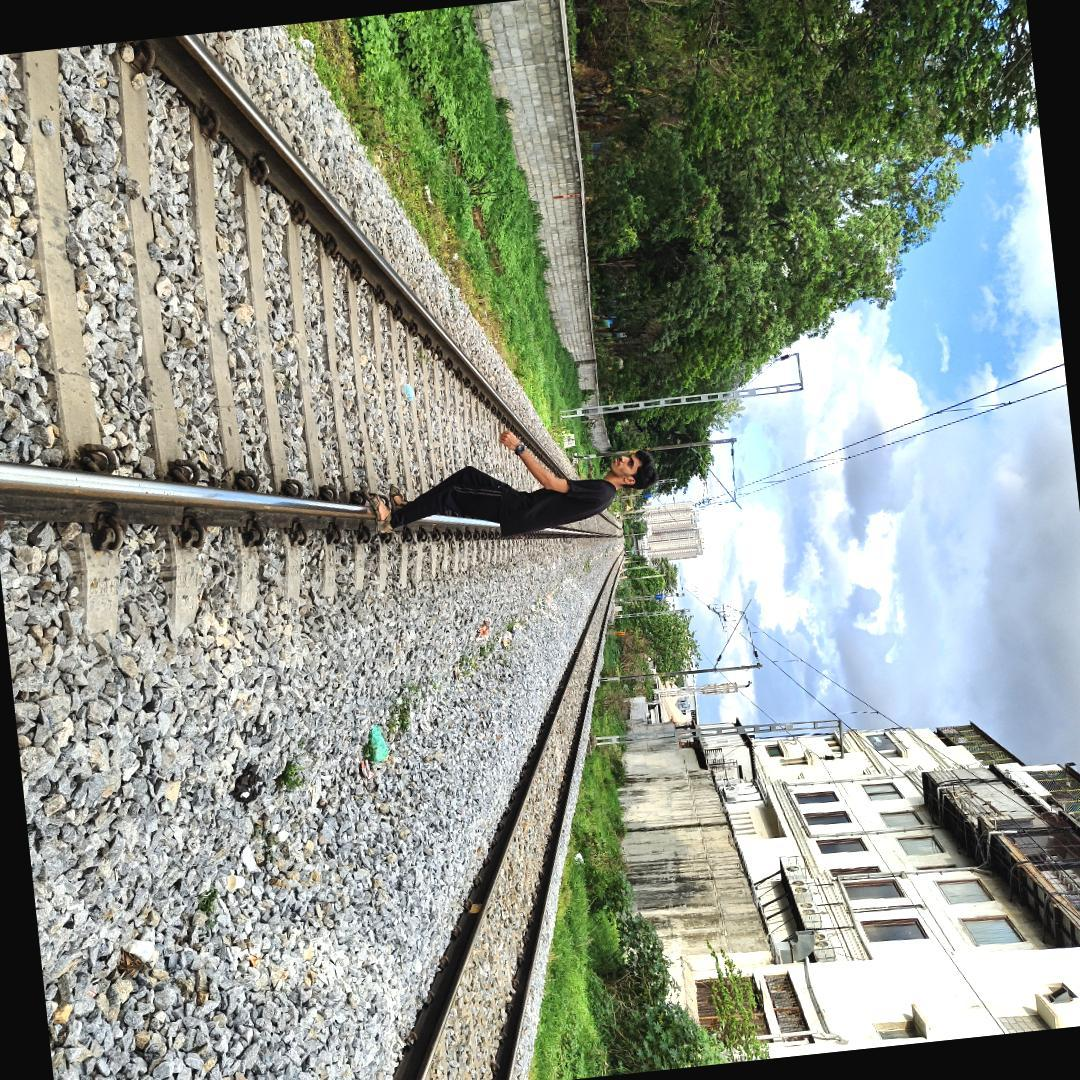standing: (359, 412, 664, 558)
